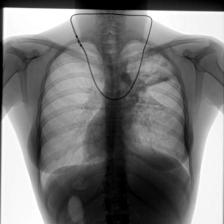tuberculosis: (34, 34, 196, 222)
